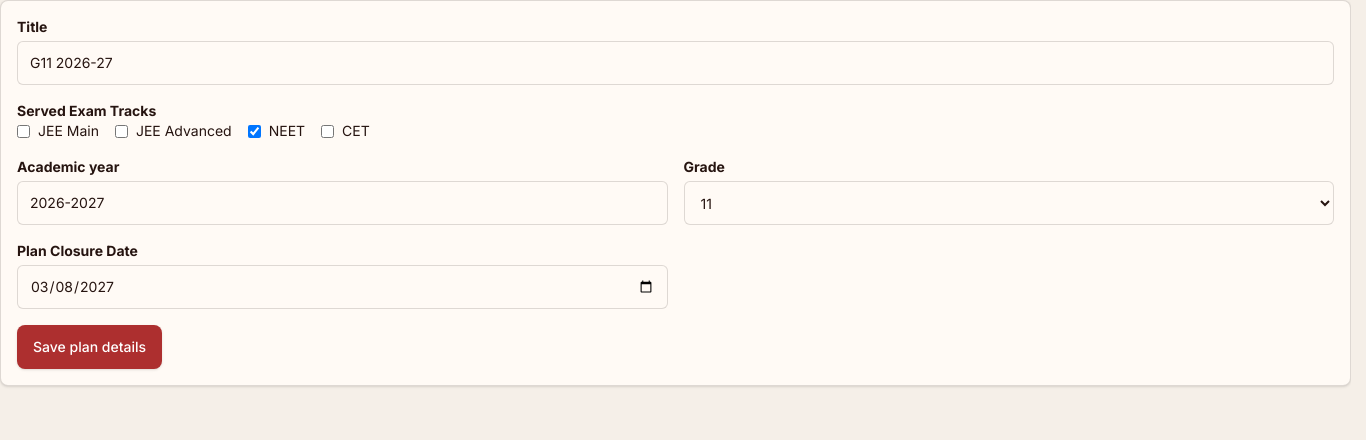
Test: CurriculumPlanMetadataForm › shows a form-level error ({"error":"Academic year and Grade are locked"})
Click the button "Save plan details".
click(90, 347)  # box [17, 325, 162, 369]
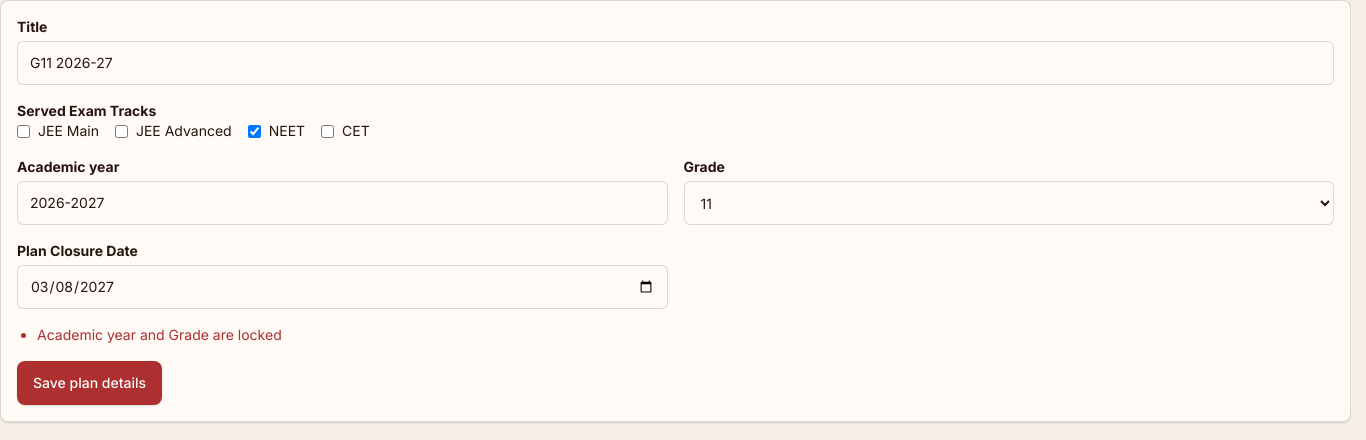
Expected: the message with test id "plan-details-errors" reads "Academic year and Grade are locked", [37, 326, 282, 343]
